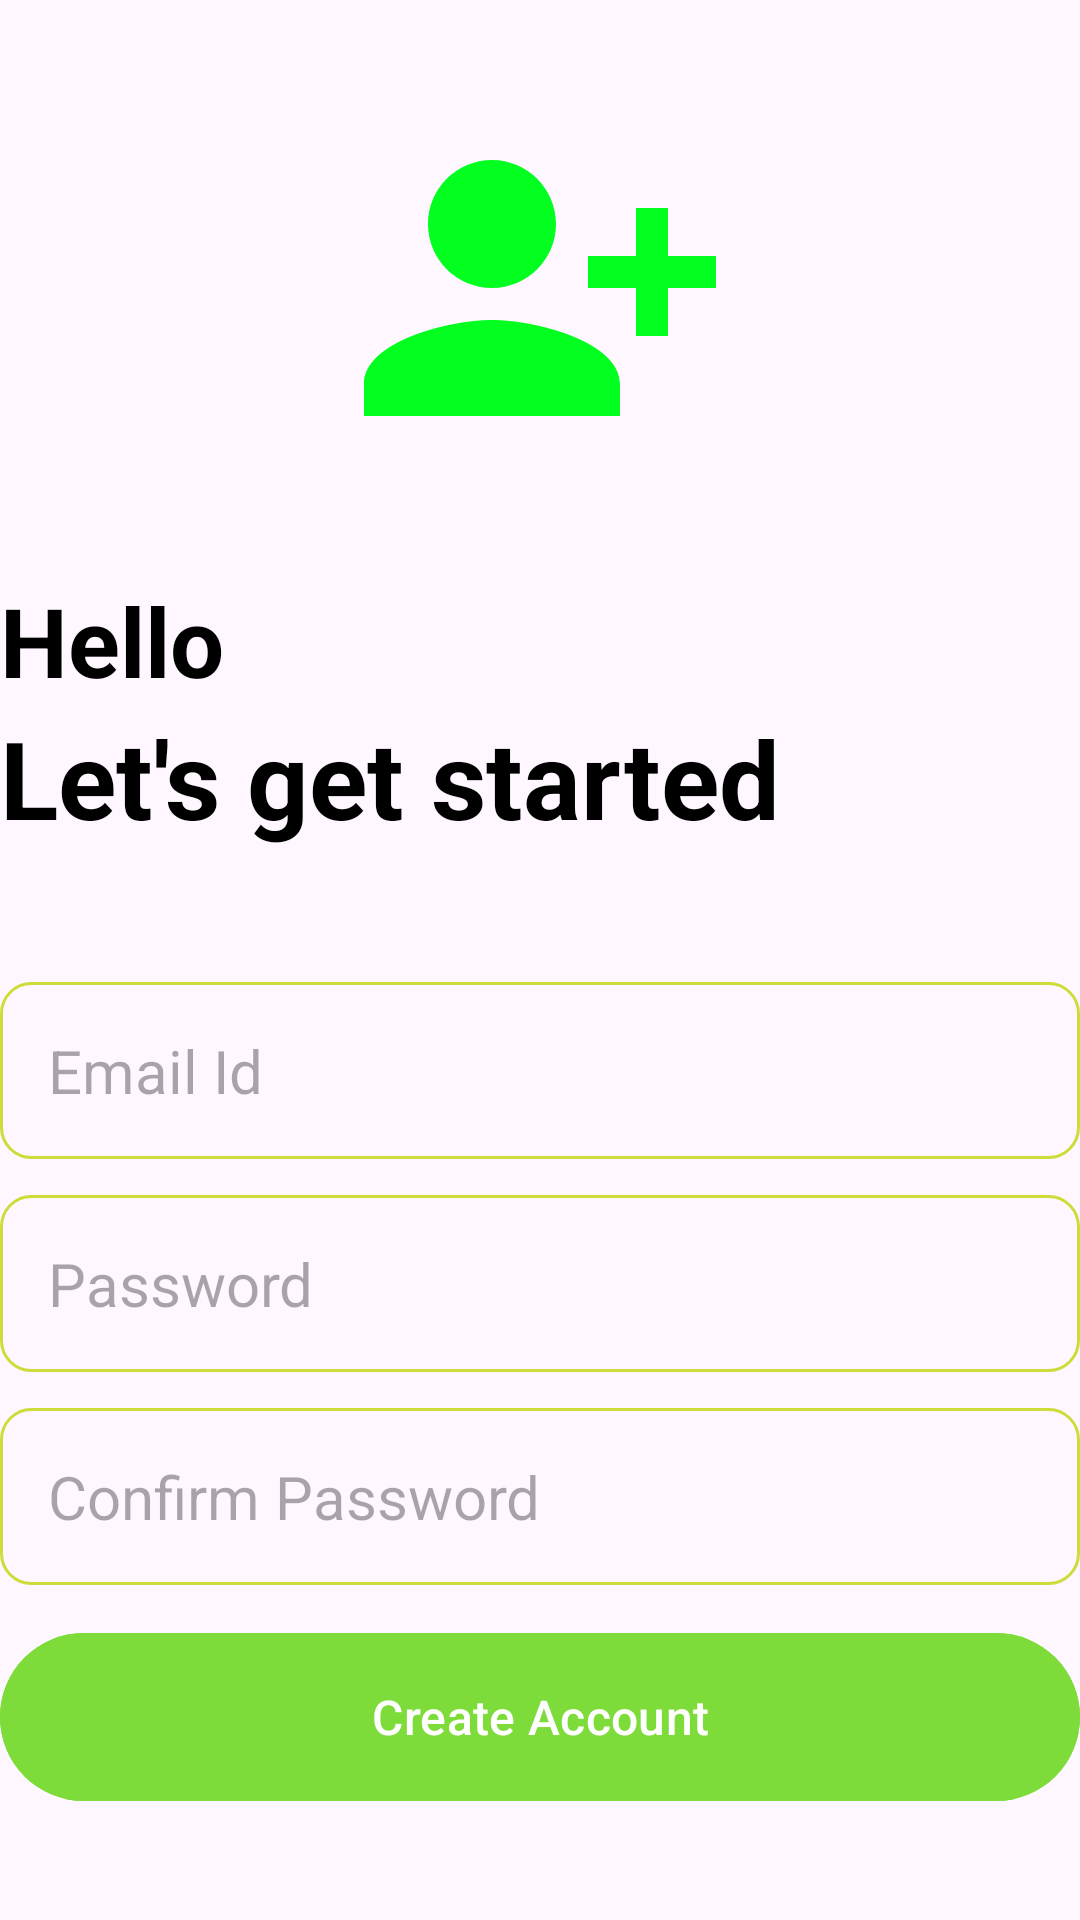

Locate icon controls on the screen. Image size 1080px x 1920px, boxes as (x1, y1, x2, y2).
person add: (364, 160, 716, 416)
